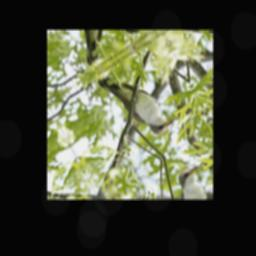Cuckoo: (96, 53, 177, 153)
